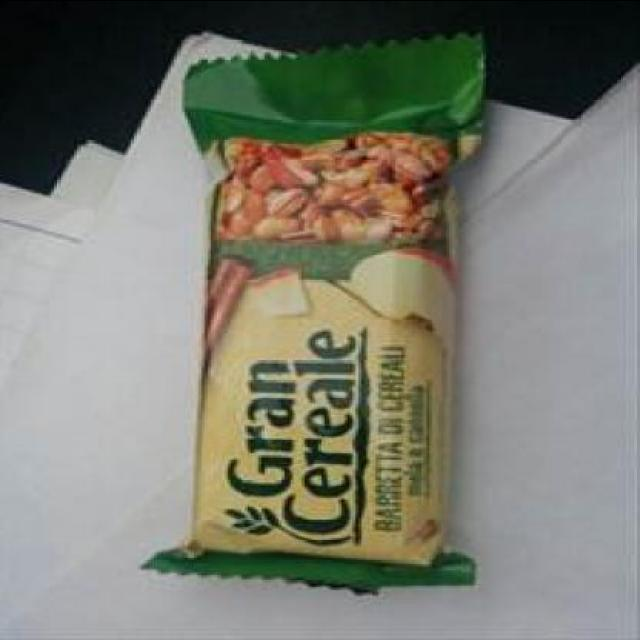Cereal bar: (124, 4, 516, 588)
